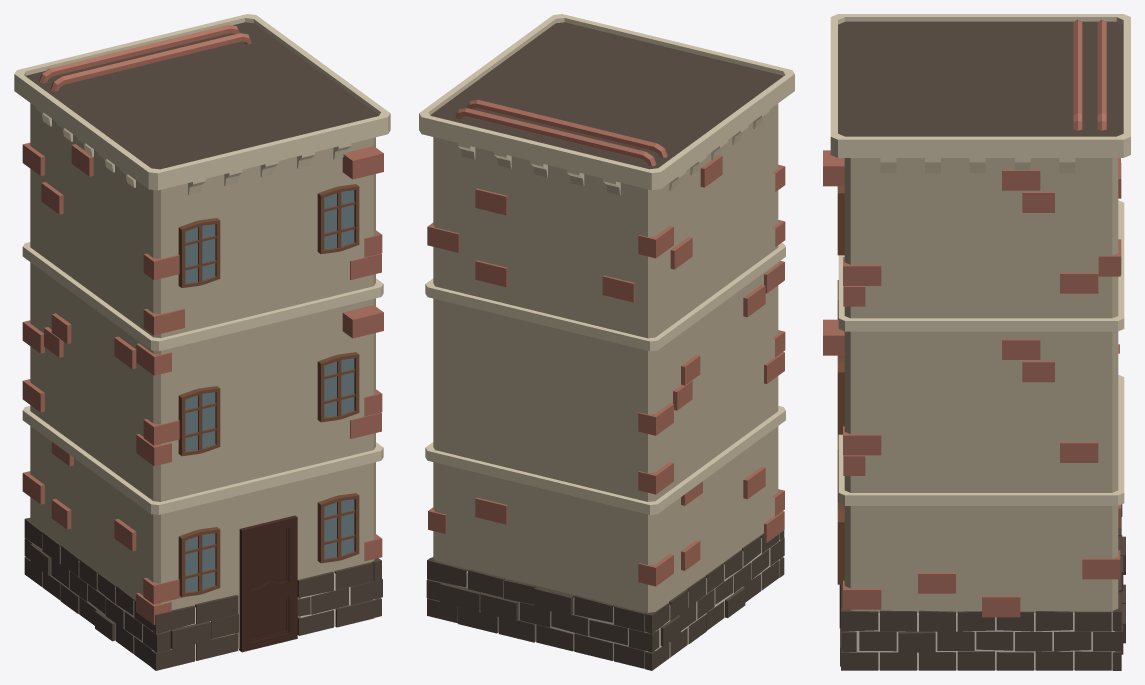
The model's file is cairo-block-small.glb.
3 views of the same model, side by side, from view 1: azimuth 30°, elevation 25°; view 2: azimuth 150°, elevation 25°; view 3: azimuth 270°, elevation 25° (orthographic). The views are drawn at different scales.
Size of the model in its own units: 1.91 by 3.85 by 1.97.
